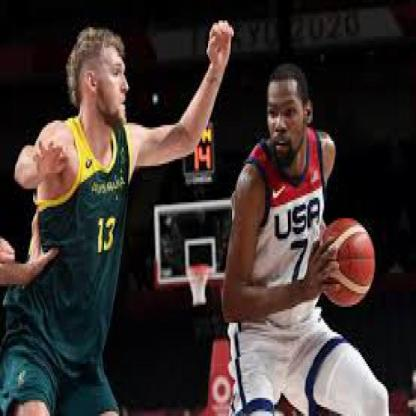basketball: (318, 216, 376, 307)
rim: (185, 266, 211, 277)
